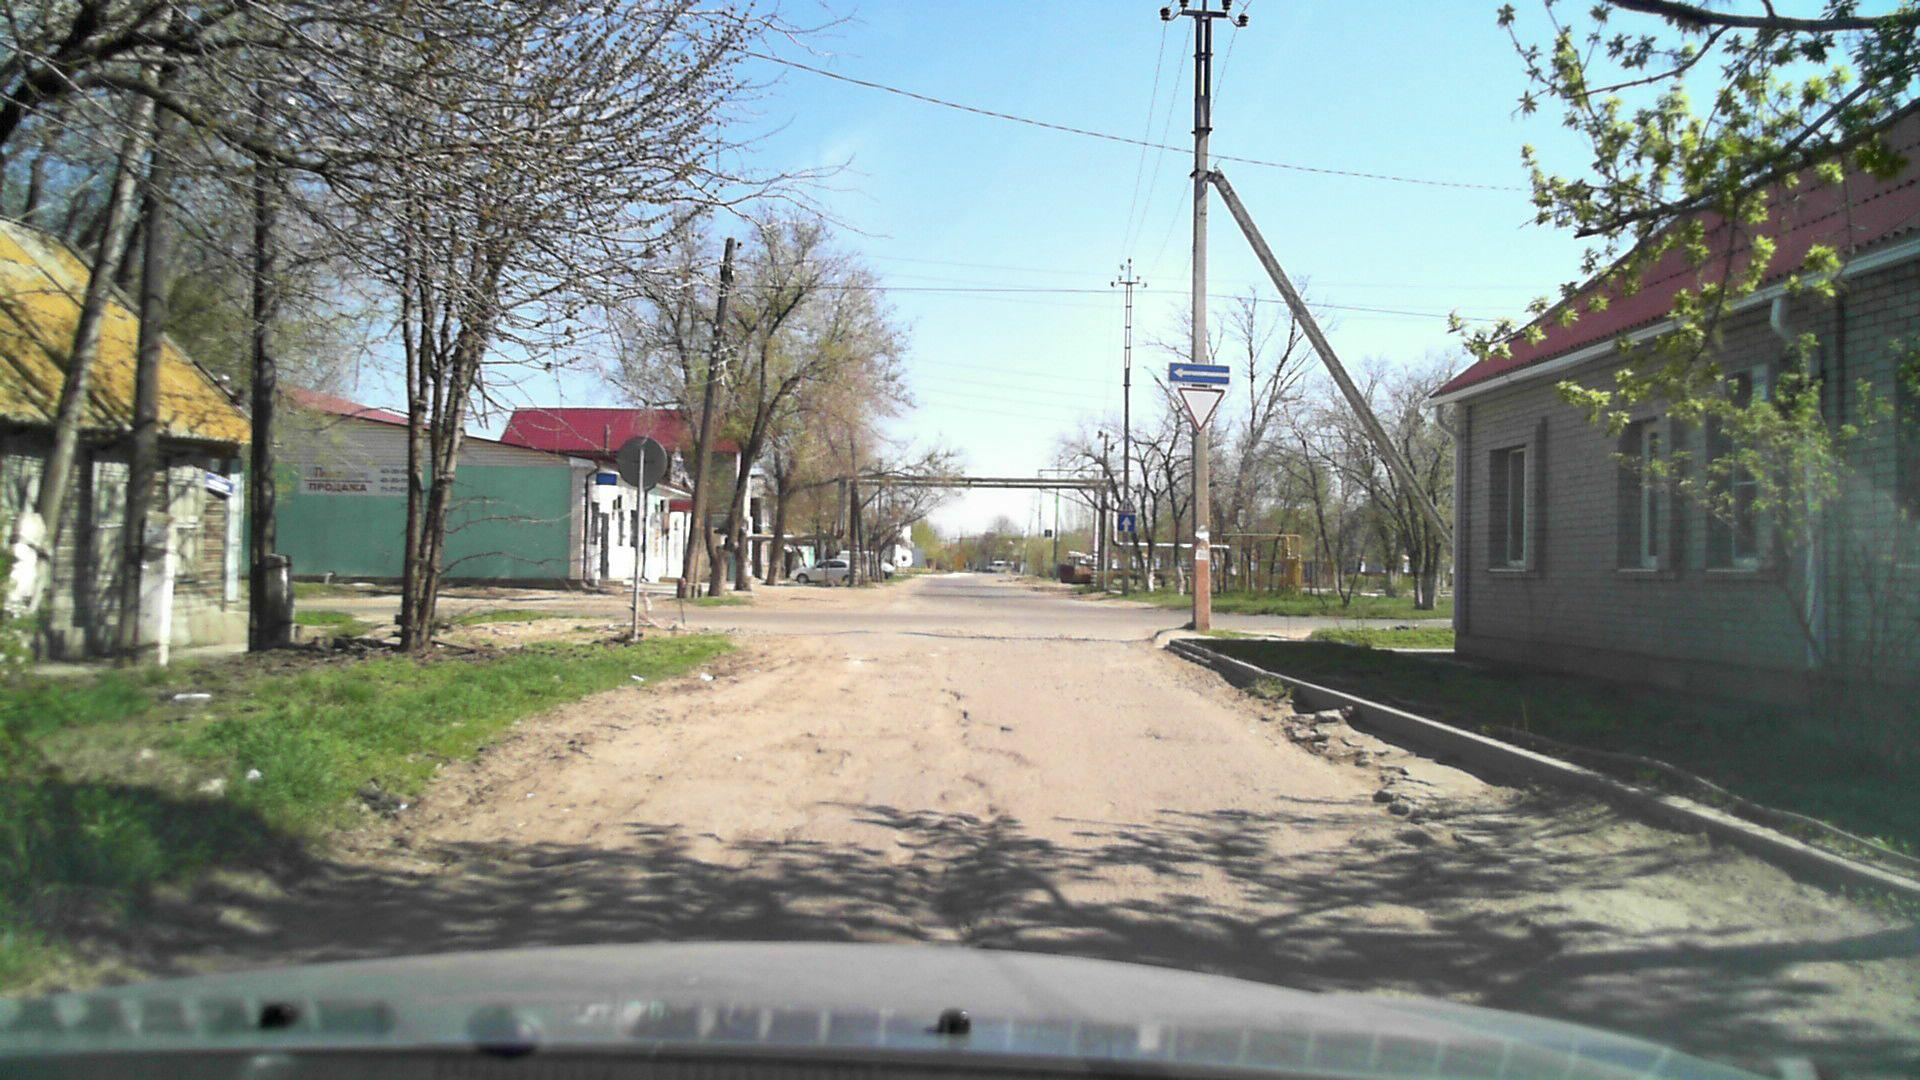1_21: (1116, 496, 1137, 513)
2_4: (1176, 386, 1226, 431)
5_5: (1116, 514, 1137, 534)
5_6: (1044, 529, 1052, 538)
5_7_2: (1167, 357, 1232, 382)
